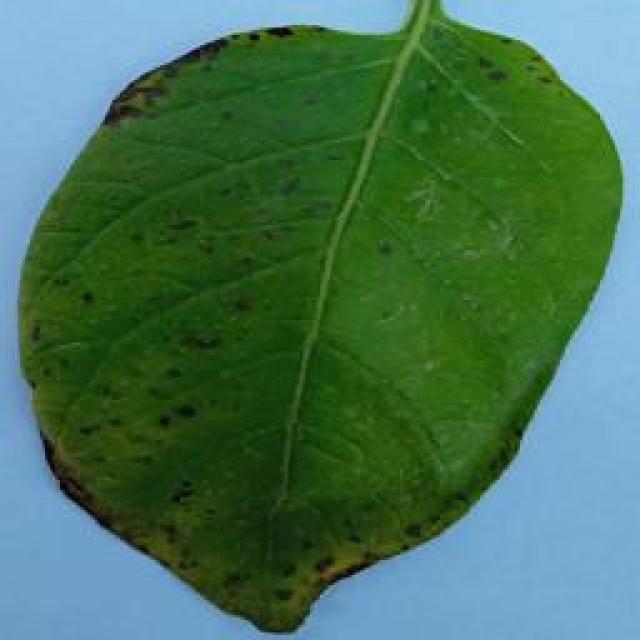Potato_Early_Blight: (9, 10, 636, 634)
